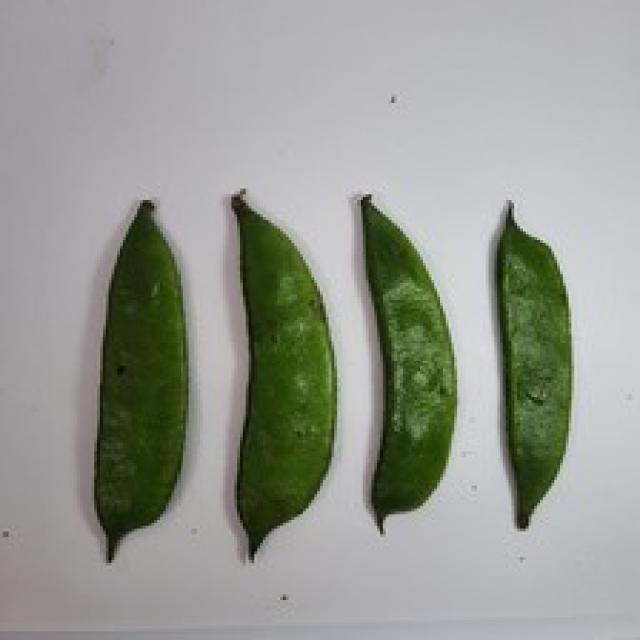Bean: (229, 186, 337, 560), (92, 197, 188, 560), (357, 192, 457, 532), (494, 197, 572, 529)
